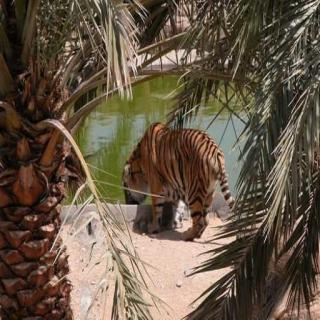Tiger: (116, 111, 234, 246)
